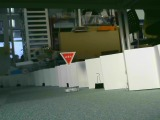stop: (59, 51, 76, 66)
